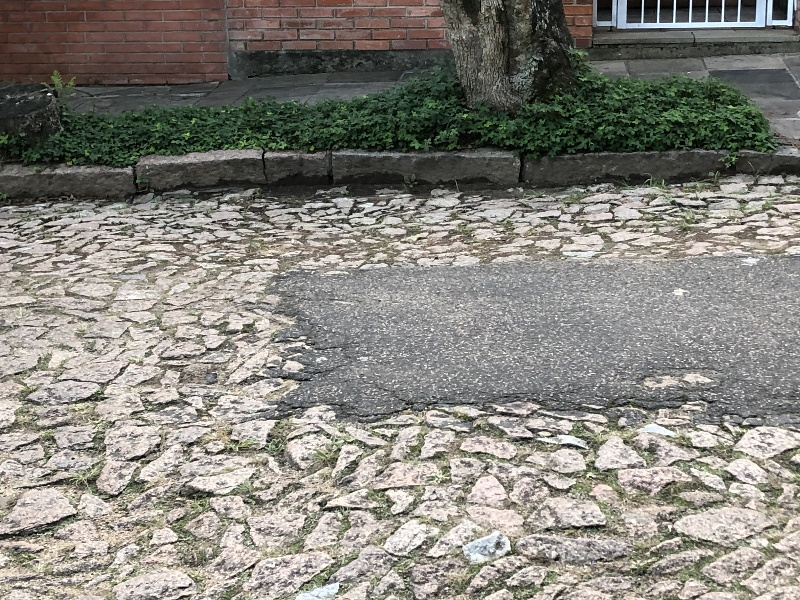v45: (1, 99, 668, 244)
